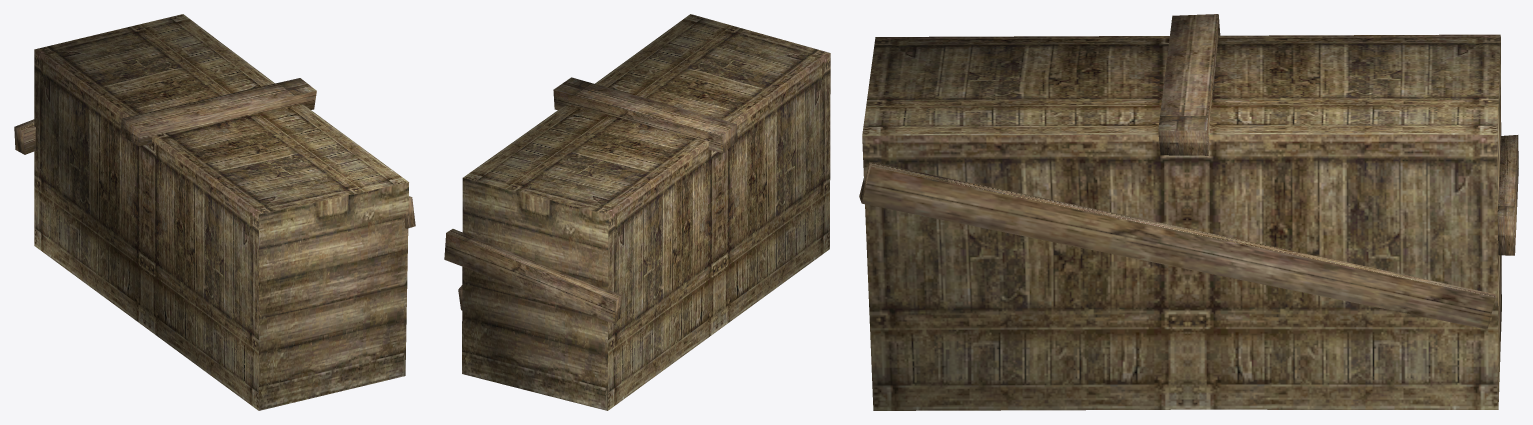
Rendered from S_Build_West024.FBX.
The picture shows the model from 3 angles, left to right: view 1: azimuth 30°, elevation 25°; view 2: azimuth 150°, elevation 25°; view 3: azimuth 270°, elevation 25°; orthographic projection. The views are drawn at different scales.
Parts seen in each view (by area): view 1: S_Build_West024; view 2: S_Build_West024; view 3: S_Build_West024.
Part boxes in pixels (x1,y1,x2,y2): S_Build_West024: [14, 14, 415, 410]; S_Build_West024: [444, 14, 830, 410]; S_Build_West024: [859, 14, 1518, 410].
Size of the model in its own units: 135 by 313 by 152.
